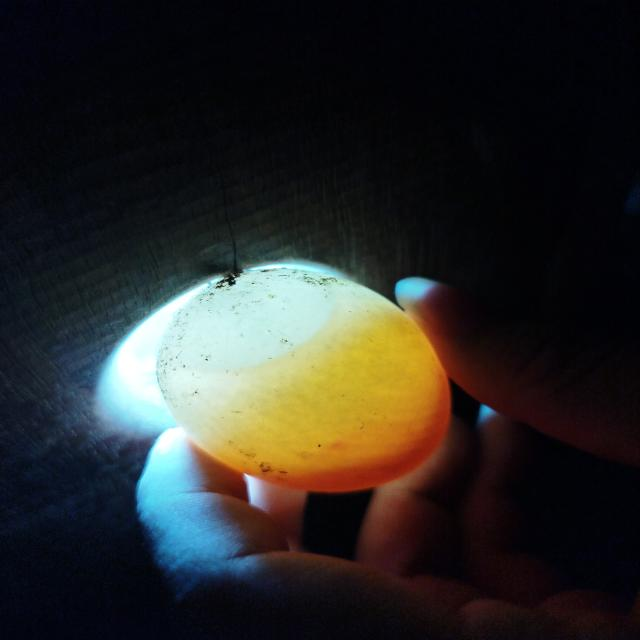Camara de Ar: (160, 269, 336, 368)
Gema Quebrada: (210, 372, 447, 492)
